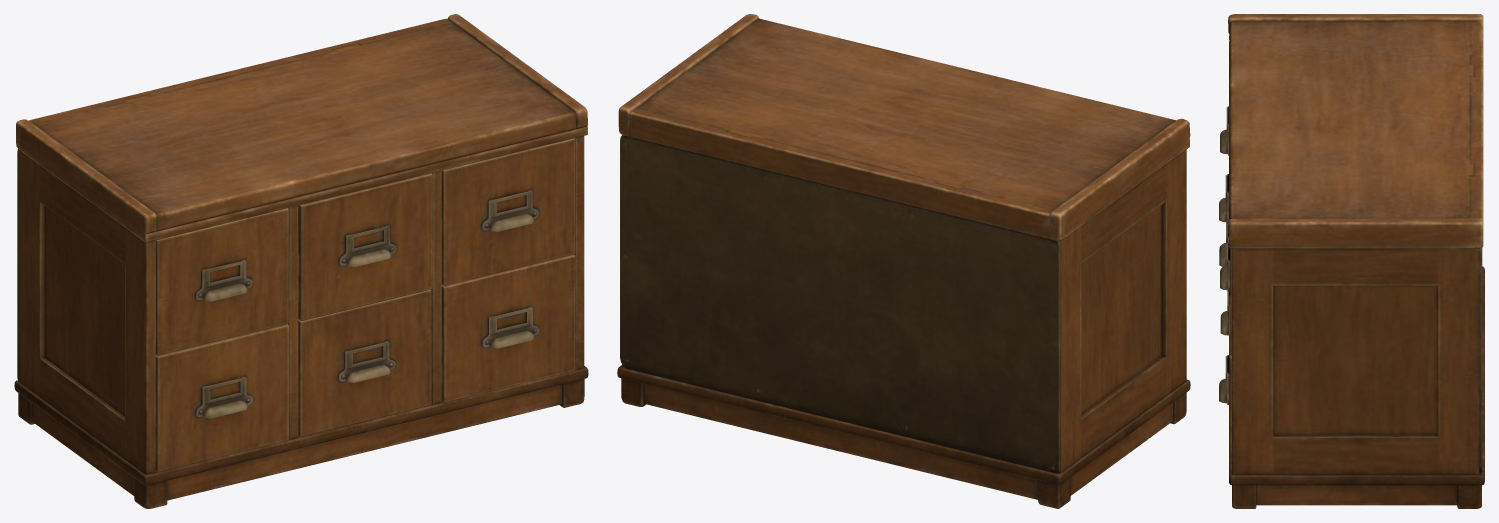
The model's file is vintage_wooden_drawer_01.glb.
The picture shows the model from 3 angles, left to right: view 1: azimuth 30°, elevation 25°; view 2: azimuth 150°, elevation 25°; view 3: azimuth 270°, elevation 25°; orthographic projection. The views are drawn at different scales.
Visible parts, largest first — view 1: vintage_wooden_drawer_01_body, vintage_wooden_drawer_01_drawer06, vintage_wooden_drawer_01_drawer02, vintage_wooden_drawer_01_drawer04, vintage_wooden_drawer_01_drawer03, vintage_wooden_drawer_01_drawer01, vintage_wooden_drawer_01_drawer05; view 2: vintage_wooden_drawer_01_body; view 3: vintage_wooden_drawer_01_body, vintage_wooden_drawer_01_drawer06, vintage_wooden_drawer_01_drawer03, vintage_wooden_drawer_01_drawer02.
Part boxes in pixels (bbox=[...]): vintage_wooden_drawer_01_body: bbox=[14, 14, 588, 508]; vintage_wooden_drawer_01_drawer06: bbox=[441, 254, 575, 402]; vintage_wooden_drawer_01_drawer02: bbox=[298, 173, 432, 320]; vintage_wooden_drawer_01_drawer04: bbox=[155, 324, 288, 472]; vintage_wooden_drawer_01_drawer03: bbox=[441, 138, 574, 285]; vintage_wooden_drawer_01_drawer01: bbox=[155, 208, 288, 355]; vintage_wooden_drawer_01_drawer05: bbox=[298, 289, 431, 436]; vintage_wooden_drawer_01_body: bbox=[617, 14, 1190, 508]; vintage_wooden_drawer_01_body: bbox=[1228, 14, 1484, 508]; vintage_wooden_drawer_01_drawer06: bbox=[1219, 295, 1231, 469]; vintage_wooden_drawer_01_drawer03: bbox=[1220, 242, 1231, 355]; vintage_wooden_drawer_01_drawer02: bbox=[1219, 174, 1228, 223].
Bounding box in the file's own units: 0.8576 × 0.5454 × 0.4574.
1 material, 1 textured.
